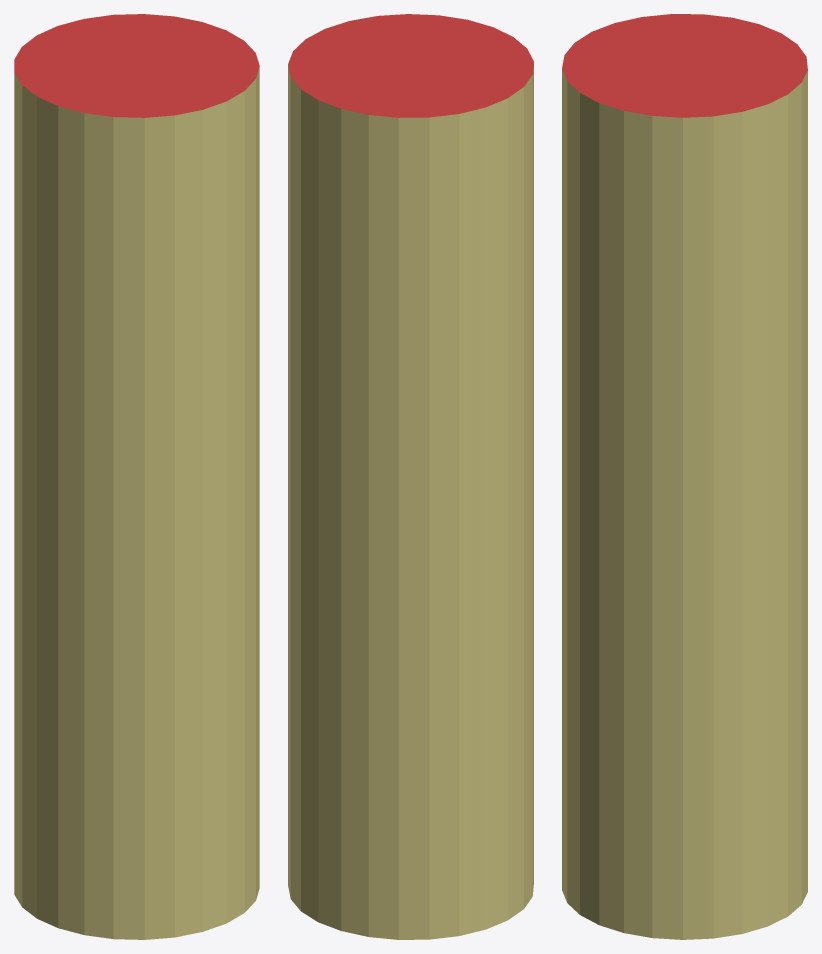
3 renders of one model, left to right at view 1: azimuth 30°, elevation 25°; view 2: azimuth 150°, elevation 25°; view 3: azimuth 270°, elevation 25°, orthographic.
Bounding box in the file's own units: 3.63 × 3.63 × 13.41.
